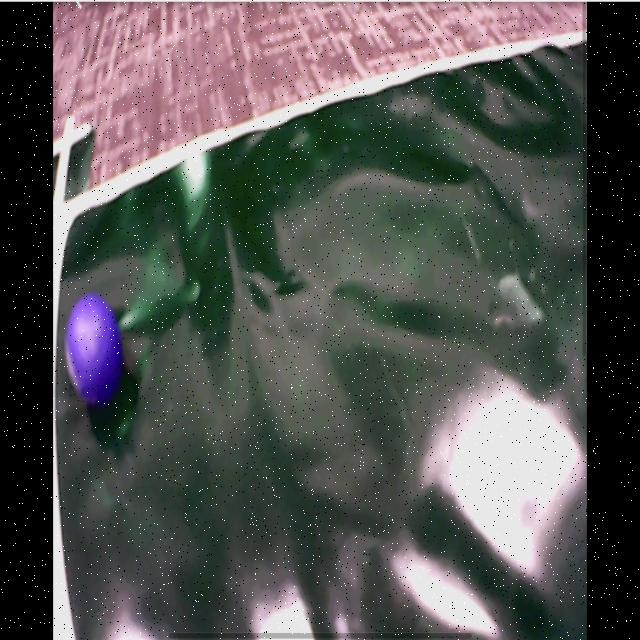ball: (66, 295, 124, 405)
